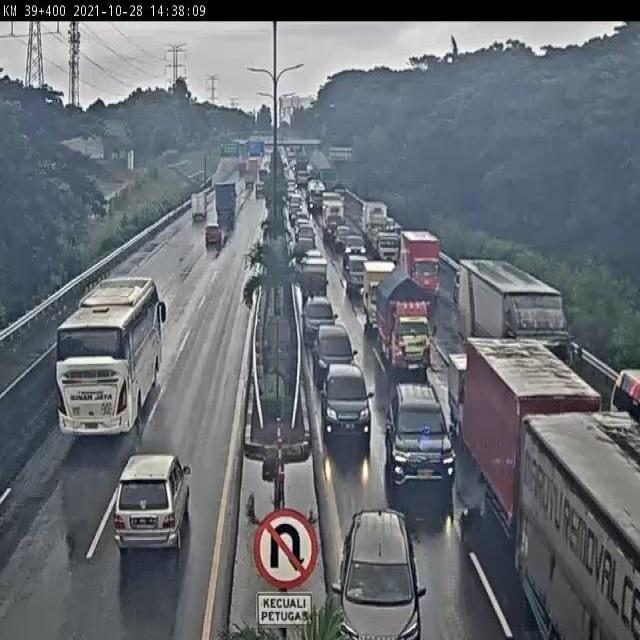big bus: (33, 275, 179, 456)
big truck: (529, 418, 640, 640), (474, 340, 593, 535), (378, 259, 436, 373), (402, 228, 445, 299), (364, 262, 402, 330), (212, 180, 247, 227), (186, 190, 211, 222)
car: (335, 504, 427, 640), (384, 380, 451, 497), (114, 449, 187, 556), (322, 361, 369, 451), (318, 315, 359, 381), (302, 290, 340, 338), (348, 257, 379, 303), (203, 218, 227, 254)
small truck: (450, 354, 477, 442)
